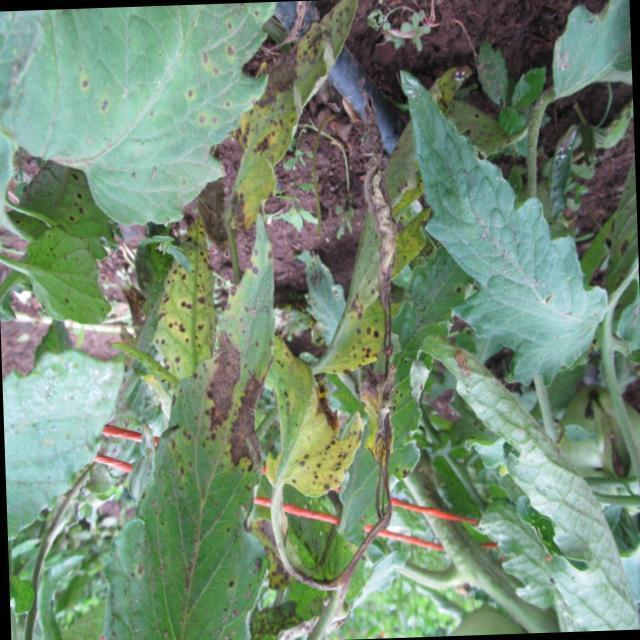Septoria: (64, 13, 258, 181), (100, 423, 249, 640), (146, 237, 214, 376), (22, 188, 99, 310), (222, 235, 282, 342), (292, 419, 358, 488), (332, 282, 382, 368)
